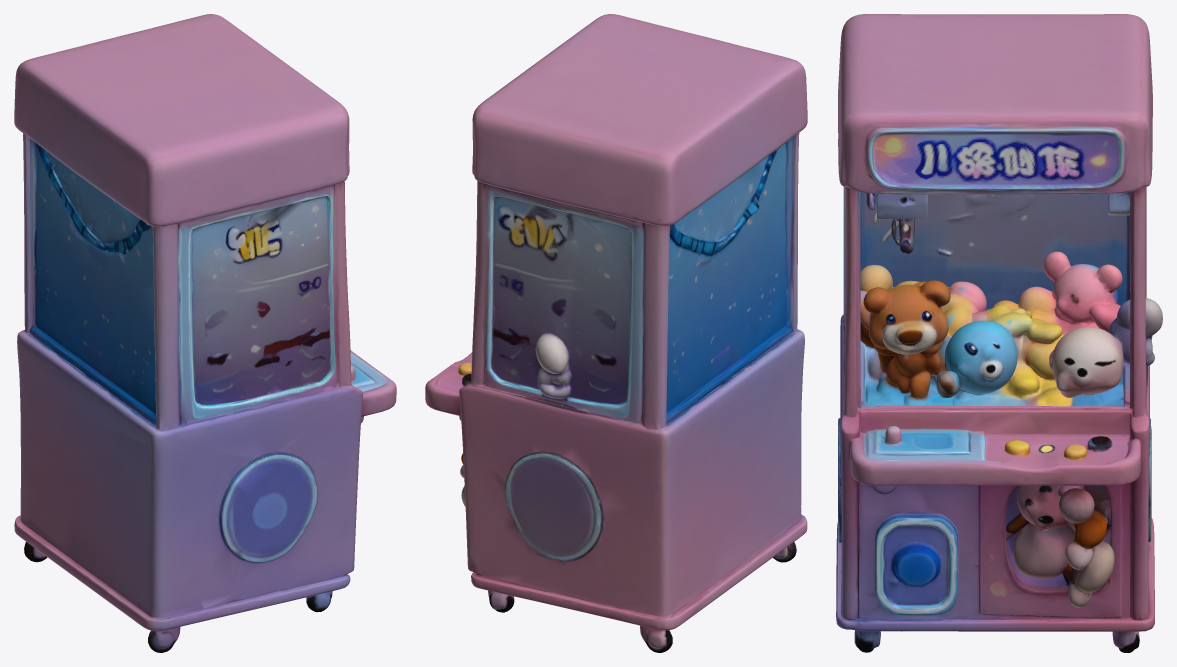
File: prop-claw-machine.glb
3 views of the same model, side by side, from view 1: azimuth 30°, elevation 25°; view 2: azimuth 150°, elevation 25°; view 3: azimuth 270°, elevation 25° (orthographic). The views are drawn at different scales.
Parts seen in each view (by area): view 1: tripo_node_3296b977-0a9d-4c07-b3cb-8a3b6d93ffd0; view 2: tripo_node_3296b977-0a9d-4c07-b3cb-8a3b6d93ffd0; view 3: tripo_node_3296b977-0a9d-4c07-b3cb-8a3b6d93ffd0.
Boxes of the visible parts, left/top/right/bottom form: tripo_node_3296b977-0a9d-4c07-b3cb-8a3b6d93ffd0: left=14, top=14, right=396, bottom=652; tripo_node_3296b977-0a9d-4c07-b3cb-8a3b6d93ffd0: left=425, top=14, right=807, bottom=652; tripo_node_3296b977-0a9d-4c07-b3cb-8a3b6d93ffd0: left=836, top=14, right=1162, bottom=652.
Bounding box in the file's own units: 1.07 × 2 × 1.08.
1 material, 1 textured.
